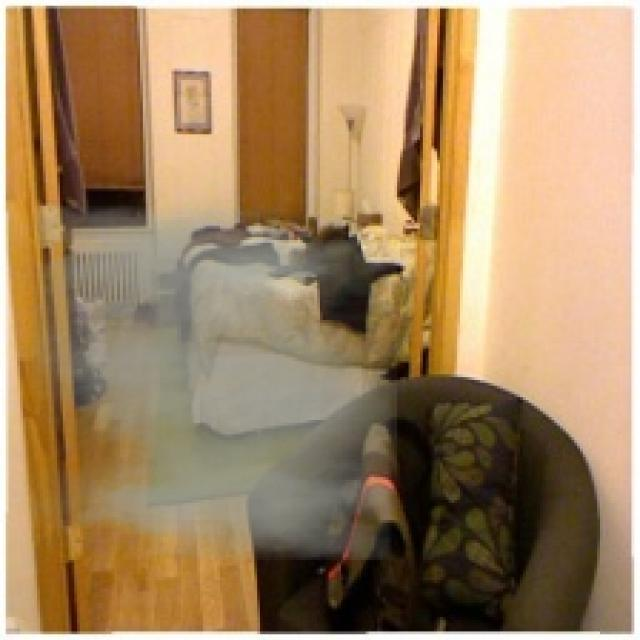Smoke: (32, 205, 397, 560)
